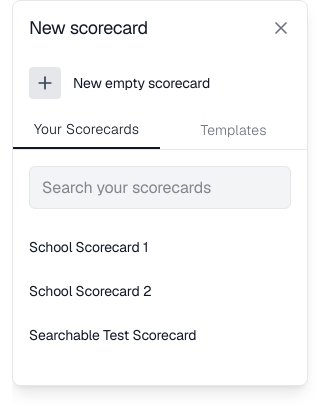
Test case: ScorecardPickerDialog Component › Search Functionality › should show "No scorecards match your search" when no results found
The width and height of the screenshot is (332, 412).
Type "nonexistent" into the field with placeholder "Search your scorecards" at (160, 187), box [29,166,291,209]
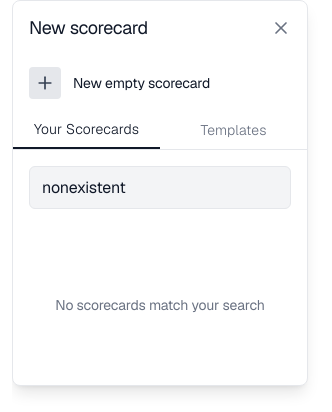
Now the text "No scorecards match your search" is shown, box [55,296,265,314]
